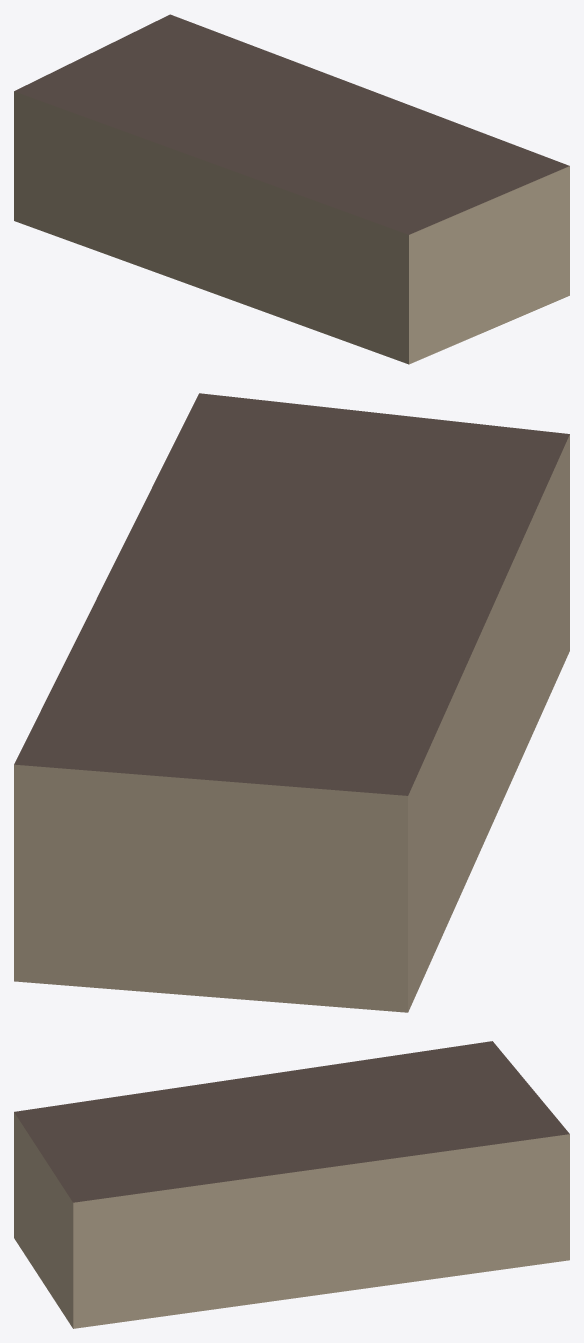
3 renders of one model, top to bottom at view 1: azimuth 30°, elevation 25°; view 2: azimuth 150°, elevation 25°; view 3: azimuth 270°, elevation 25°, orthographic. The views are drawn at different scales.
Visible parts, largest first — view 1: HP-w1197008146; view 2: HP-w1197008146; view 3: HP-w1197008146.
Boxes of the visible parts, x1=… form: HP-w1197008146: x1=14, y1=14, x2=569, y2=364; HP-w1197008146: x1=14, y1=393, x2=569, y2=1012; HP-w1197008146: x1=14, y1=1041, x2=569, y2=1328.
Bounding box in the file's own units: 24.74 × 9 × 35.95.
